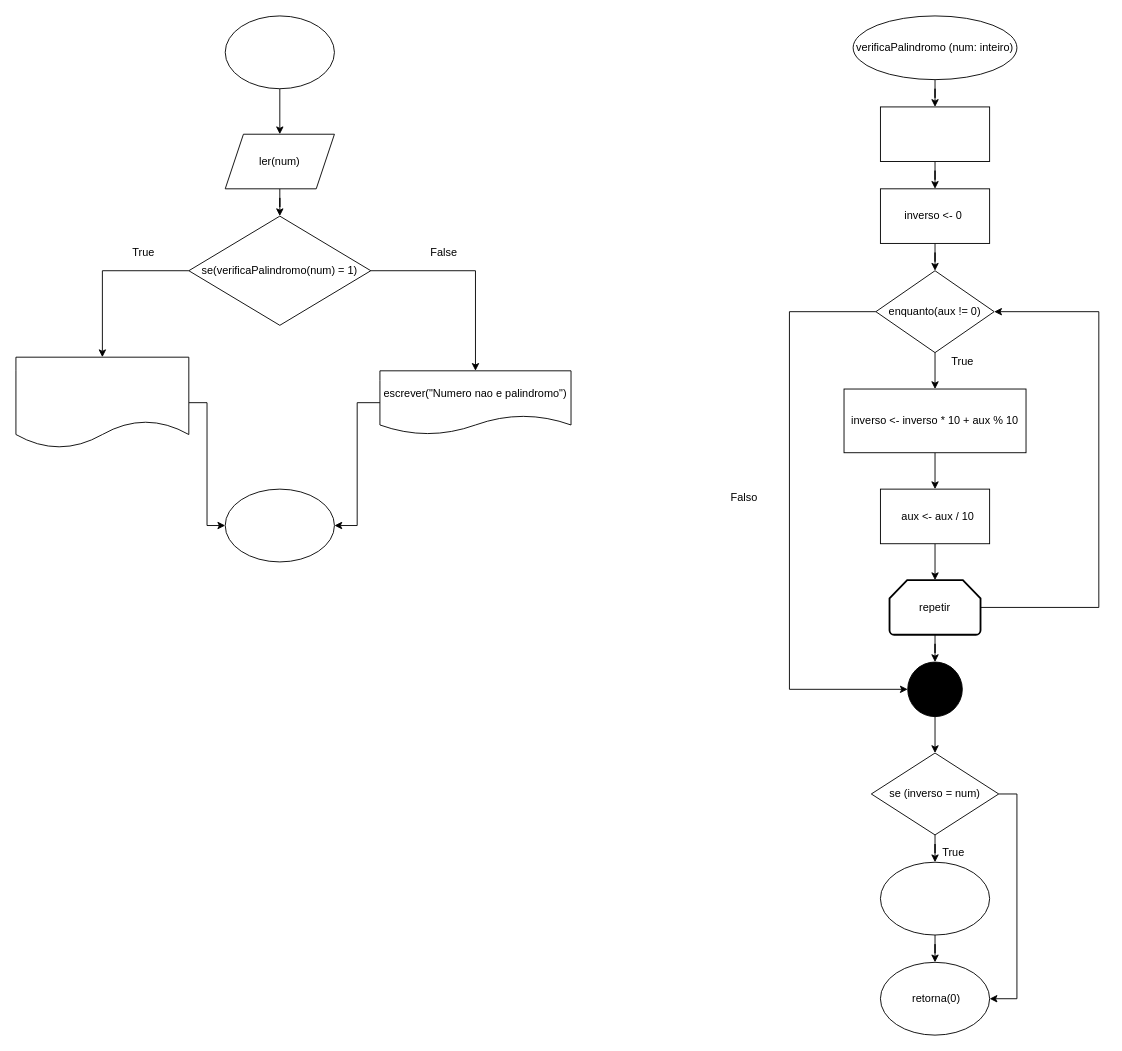
This 1122x1051 diagram has some shape labels left out. Here are the shapes that lost their labels. From the top down, the box of each, then its label:
(224, 15, 334, 89): Inicio
(880, 106, 990, 162): aux <- num
(15, 356, 189, 448): escrever("Numero e palindromo")
(224, 488, 334, 562): Fim
(880, 861, 990, 935): retornar(1)
